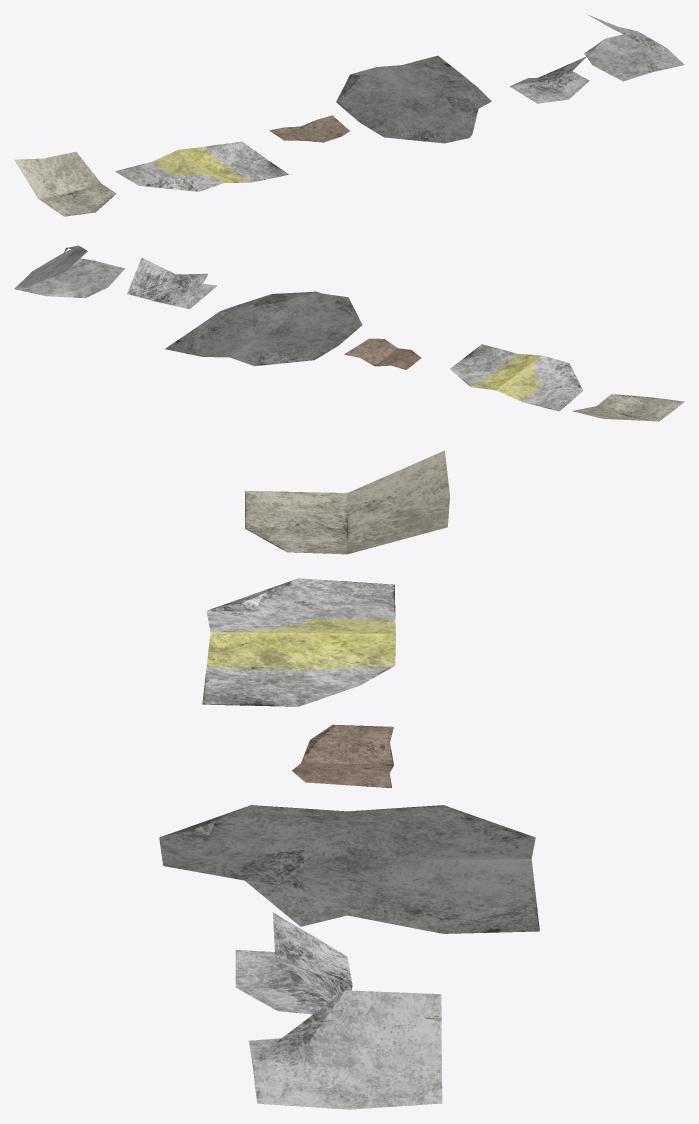
The model's file is dirty_crumpled_pieces_of_paper_-_6_piece_set.glb.
3 views of the same model, one above another, from view 1: azimuth 30°, elevation 25°; view 2: azimuth 150°, elevation 25°; view 3: azimuth 270°, elevation 25° (orthographic). The views are drawn at different scales.
Visible parts, largest first — view 1: Paper_04_GEO, Paper_02_GEO, Paper_01_GEO, Paper_06_GEO, Paper_05_GEO, Paper_03_GEO; view 2: Paper_04_GEO, Paper_02_GEO, Paper_06_GEO, Paper_05_GEO, Paper_01_GEO, Paper_03_GEO; view 3: Paper_04_GEO, Paper_02_GEO, Paper_06_GEO, Paper_01_GEO, Paper_05_GEO, Paper_03_GEO.
Part boxes in pixels (left/top/right/bottom): Paper_04_GEO: left=336, top=55, right=491, bottom=143; Paper_02_GEO: left=115, top=141, right=288, bottom=191; Paper_01_GEO: left=14, top=151, right=116, bottom=216; Paper_06_GEO: left=584, top=14, right=684, bottom=81; Paper_05_GEO: left=509, top=56, right=589, bottom=103; Paper_03_GEO: left=269, top=115, right=349, bottom=142; Paper_04_GEO: left=165, top=291, right=362, bottom=366; Paper_02_GEO: left=450, top=344, right=583, bottom=411; Paper_06_GEO: left=14, top=245, right=125, bottom=298; Paper_05_GEO: left=127, top=258, right=216, bottom=309; Paper_01_GEO: left=572, top=394, right=684, bottom=421; Paper_03_GEO: left=344, top=338, right=420, bottom=369; Paper_04_GEO: left=159, top=805, right=539, bottom=933; Paper_02_GEO: left=202, top=578, right=395, bottom=706; Paper_06_GEO: left=249, top=990, right=442, bottom=1109; Paper_01_GEO: left=245, top=450, right=449, bottom=554; Paper_05_GEO: left=235, top=912, right=352, bottom=1014; Paper_03_GEO: left=292, top=724, right=393, bottom=787.
Size of the model in its own units: 2.62 by 0.1334 by 0.6888.
1 material, 1 textured.
